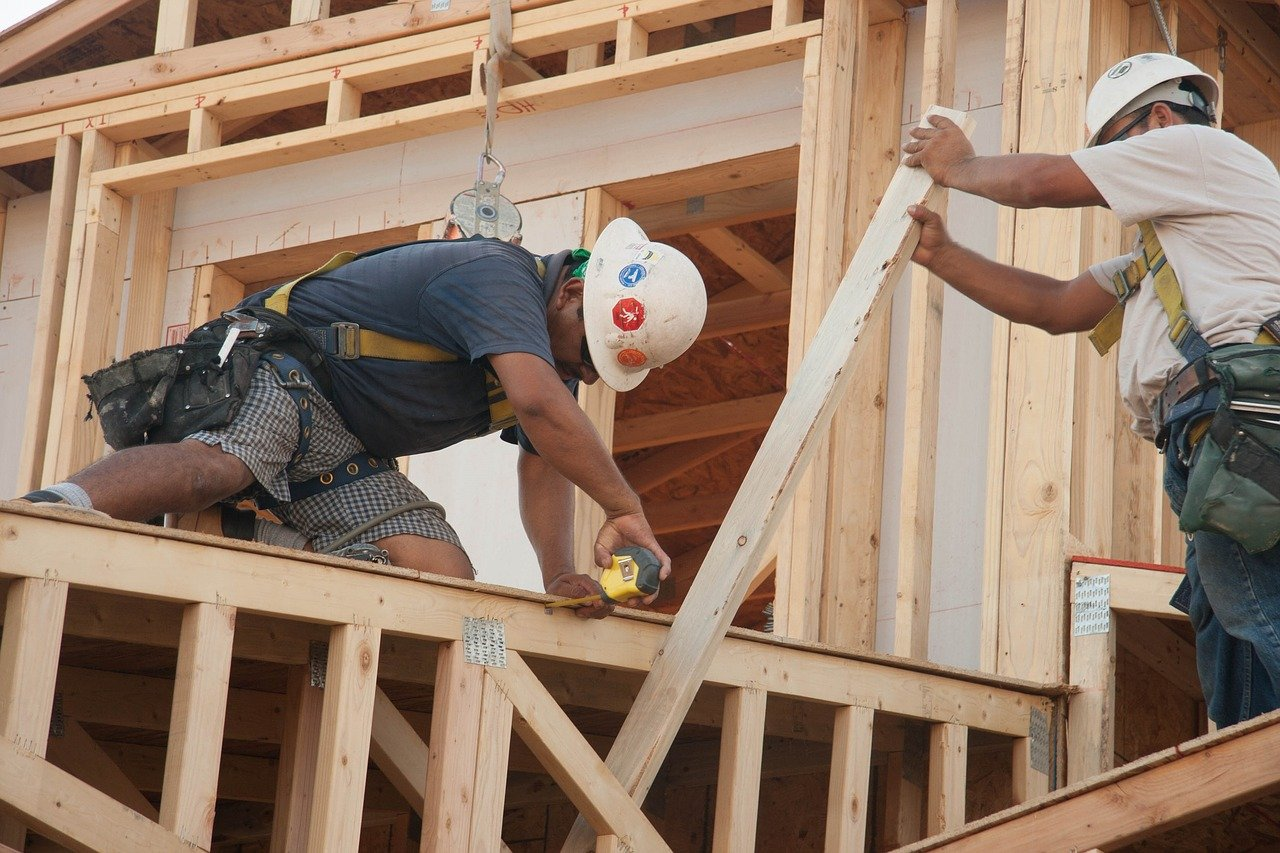Hard Hat: (548, 218, 709, 394), (1064, 51, 1226, 149)
Person: (909, 41, 1280, 729), (11, 246, 716, 601)
